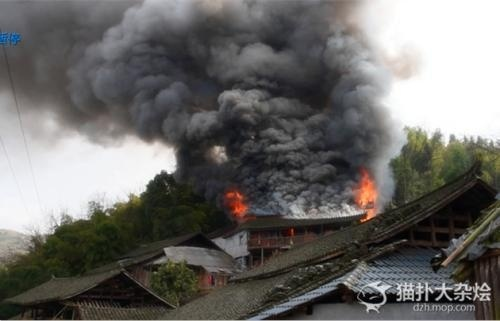fire: (355, 171, 378, 220), (225, 189, 249, 214), (286, 226, 296, 237)
